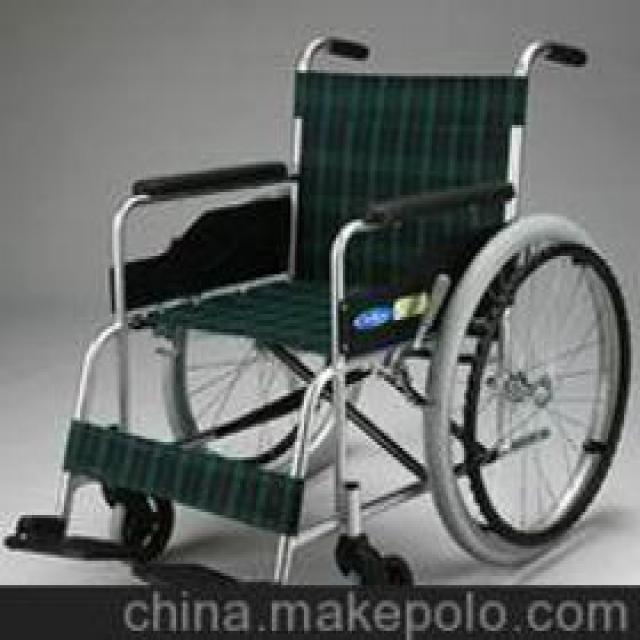wheelchairs: (2, 41, 620, 583)
